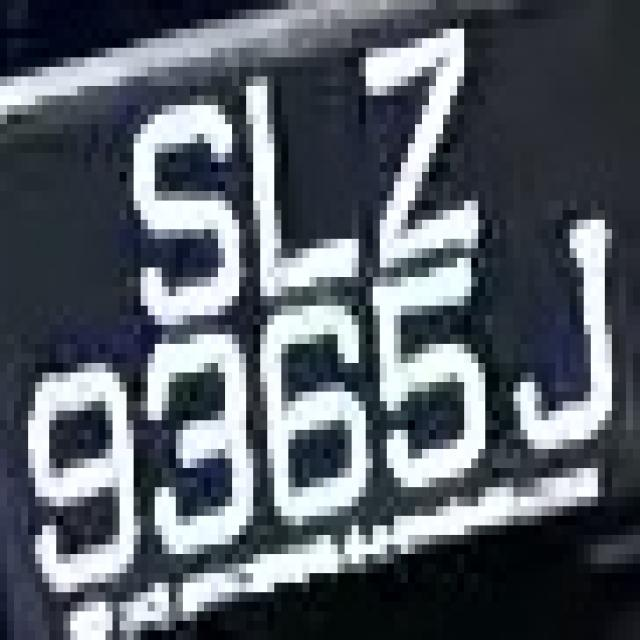3: (127, 334, 274, 583)
5: (373, 248, 492, 506)
6: (267, 277, 373, 544)
9: (14, 353, 134, 621)
J: (499, 191, 626, 487)
L: (239, 57, 380, 306)
S: (120, 96, 239, 315)
Z: (338, 9, 492, 268)
